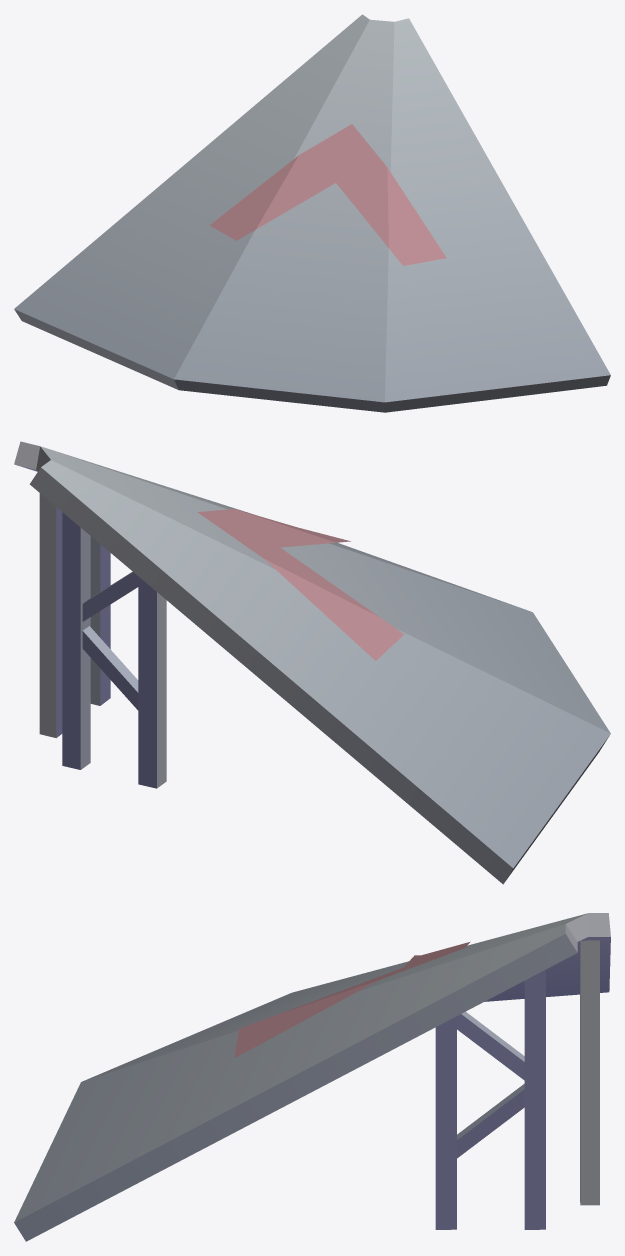
File: Prop_woodramp_03.glb
3 renders of one model, top to bottom at view 1: azimuth 30°, elevation 25°; view 2: azimuth 150°, elevation 25°; view 3: azimuth 270°, elevation 25°, orthographic. The views are drawn at different scales.
Visible parts, largest first — view 1: Prop_woodramp_03; view 2: Prop_woodramp_03; view 3: Prop_woodramp_03.
Boxes of the visible parts, x1,y1,x2,y2 form: Prop_woodramp_03: (14,14,610,412); Prop_woodramp_03: (14,441,610,884); Prop_woodramp_03: (14,913,610,1241).
Size of the model in its own units: 0.9508 by 0.5349 by 0.942.
